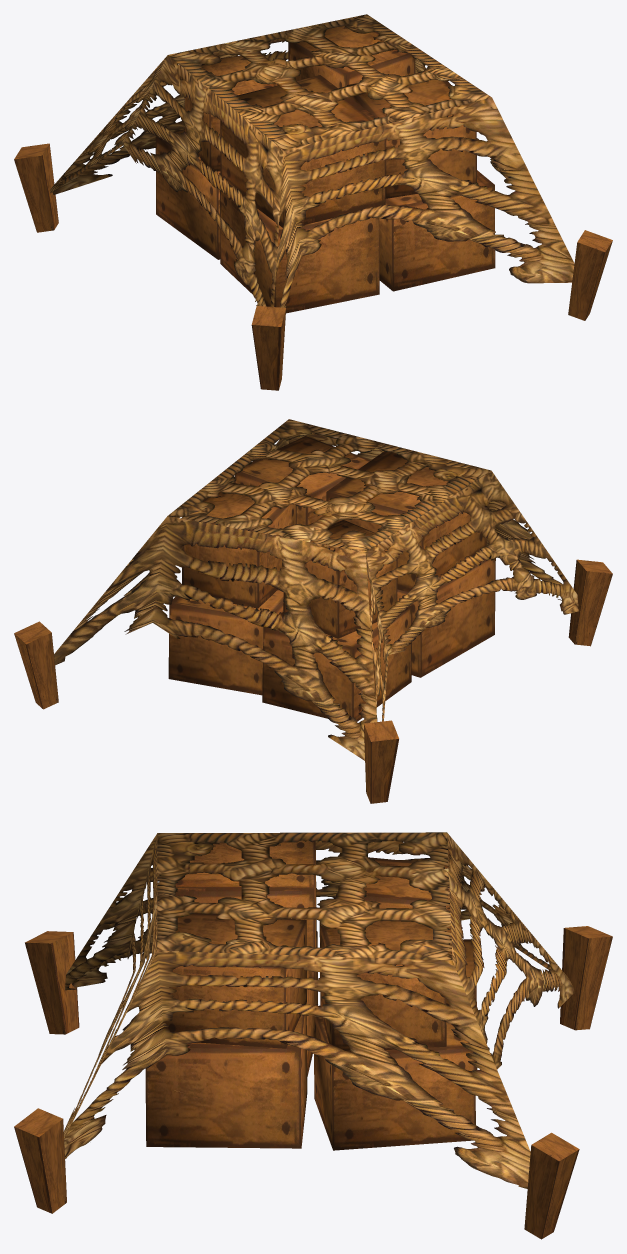
File: deadminecargonetboxes.obj
The picture shows the model from 3 angles, top to bottom: view 1: azimuth 30°, elevation 25°; view 2: azimuth 150°, elevation 25°; view 3: azimuth 270°, elevation 25°; orthographic projection. The views are drawn at different scales.
Visible parts, largest first — view 1: Geoset1, Geoset0; view 2: Geoset1, Geoset0; view 3: Geoset1, Geoset0.
Part boxes in pixels (left/top/right/bottom): Geoset1: left=50, top=14, right=574, bottom=307; Geoset0: left=14, top=26, right=612, bottom=390; Geoset1: left=54, top=419, right=578, bottom=760; Geoset0: left=14, top=436, right=612, bottom=803; Geoset1: left=64, top=832, right=574, bottom=1188; Geoset0: left=14, top=840, right=612, bottom=1239.
Size of the model in its own units: 3.74 by 1.74 by 4.02.
2 materials, 2 textured.
